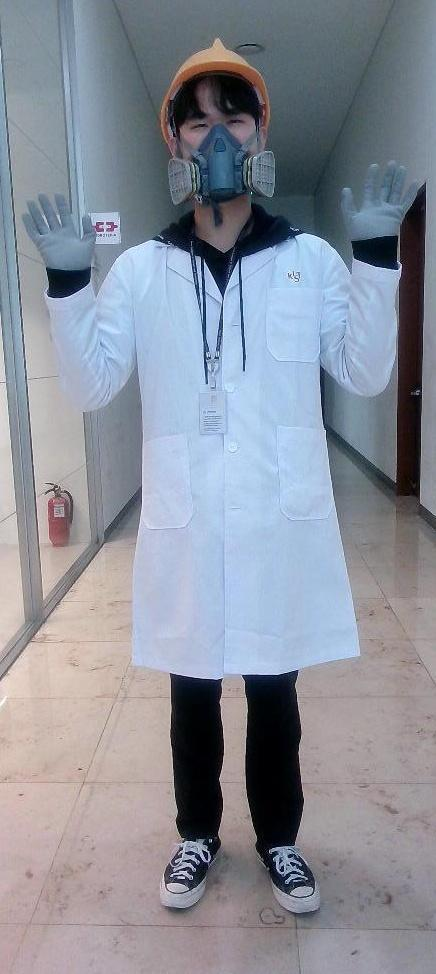lab_coat: (115, 234, 354, 678)
